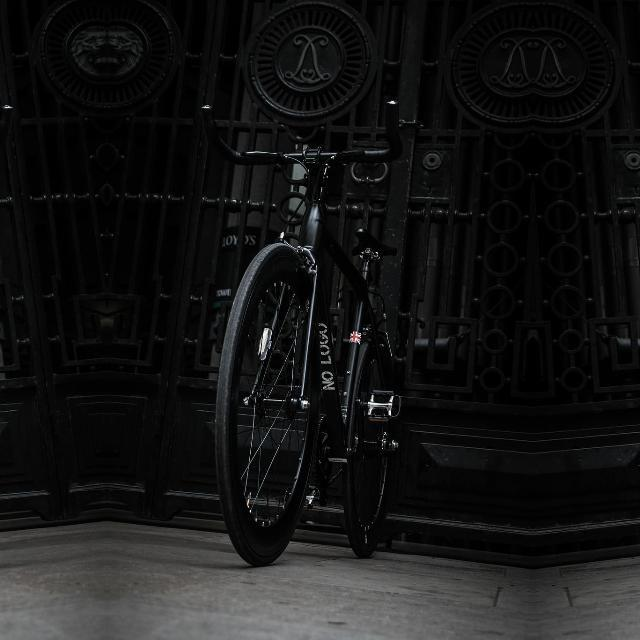obstacle: (155, 62, 433, 572), (0, 62, 57, 571), (632, 62, 640, 571)
